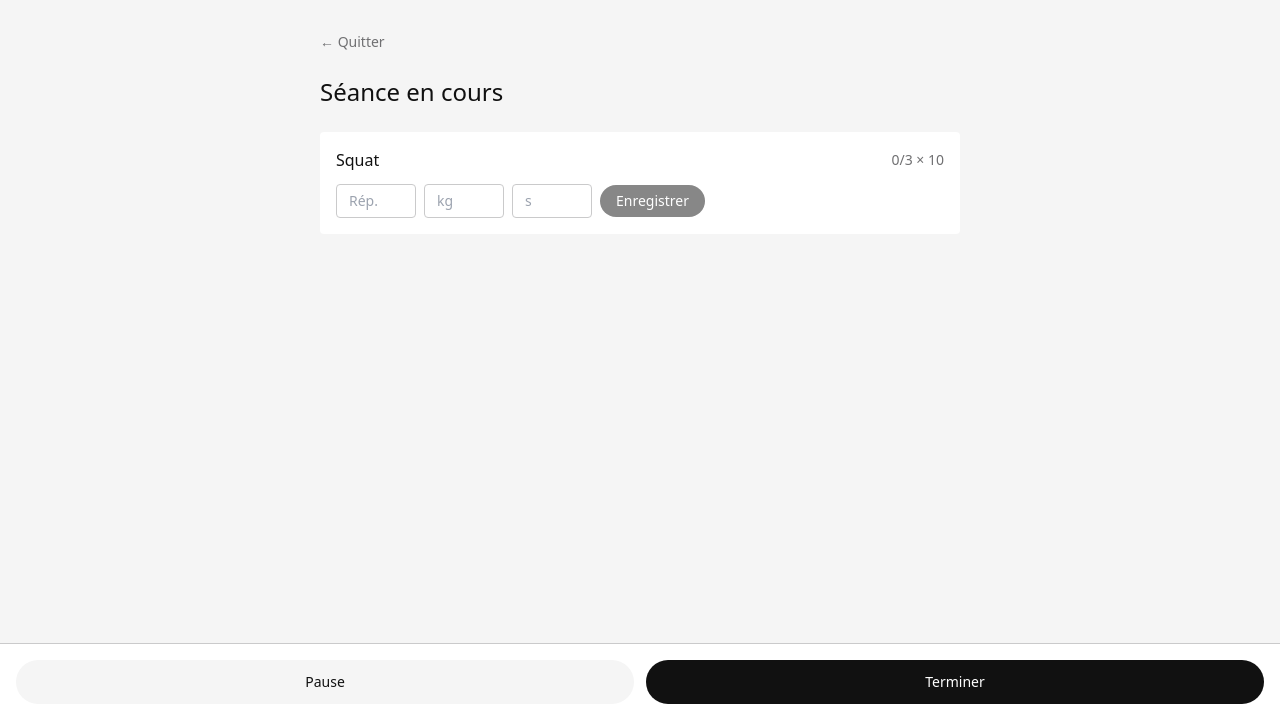
Test: ExecutionPage › RPE modal Annuler closes modal
Expected: the text "Squat" is shown, [336,148,379,172]
Click the button "Terminer" at (955, 682), box [646,660,1264,704]
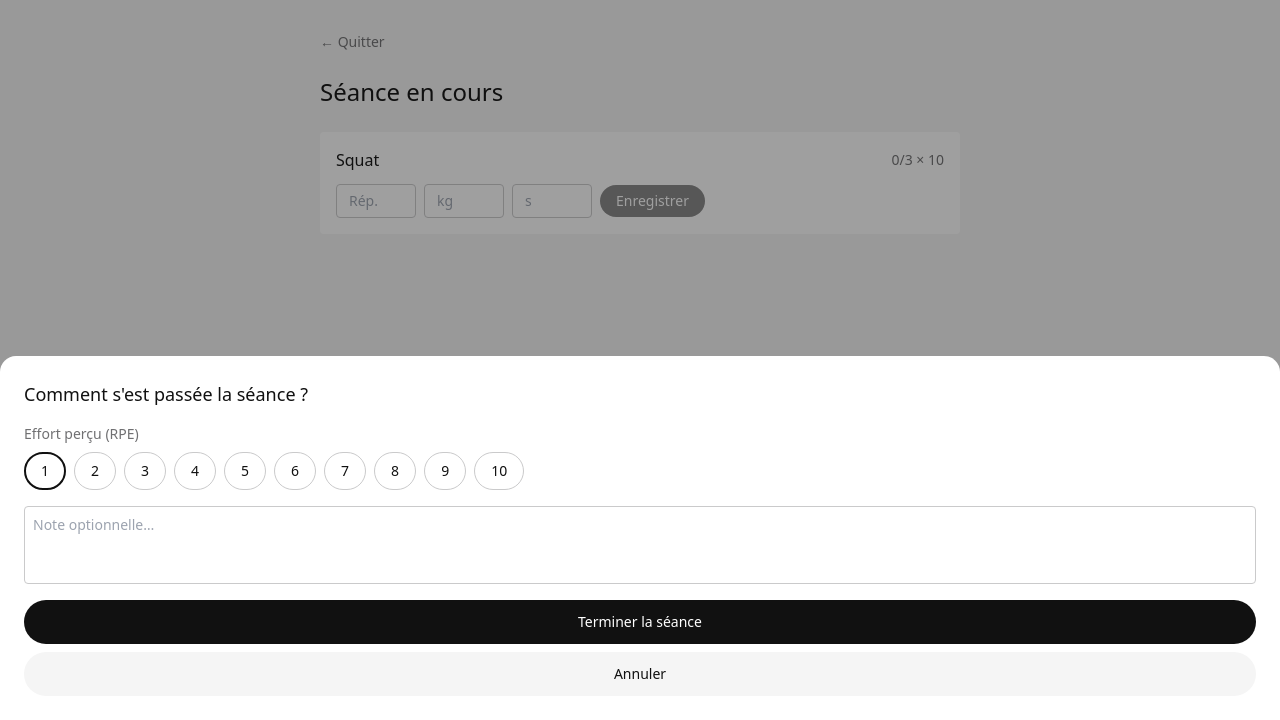
Expected: the button "Terminer la séance" is shown, [24,600,1256,644]
Click the button "Annuler" at (640, 674), box [24,652,1256,696]
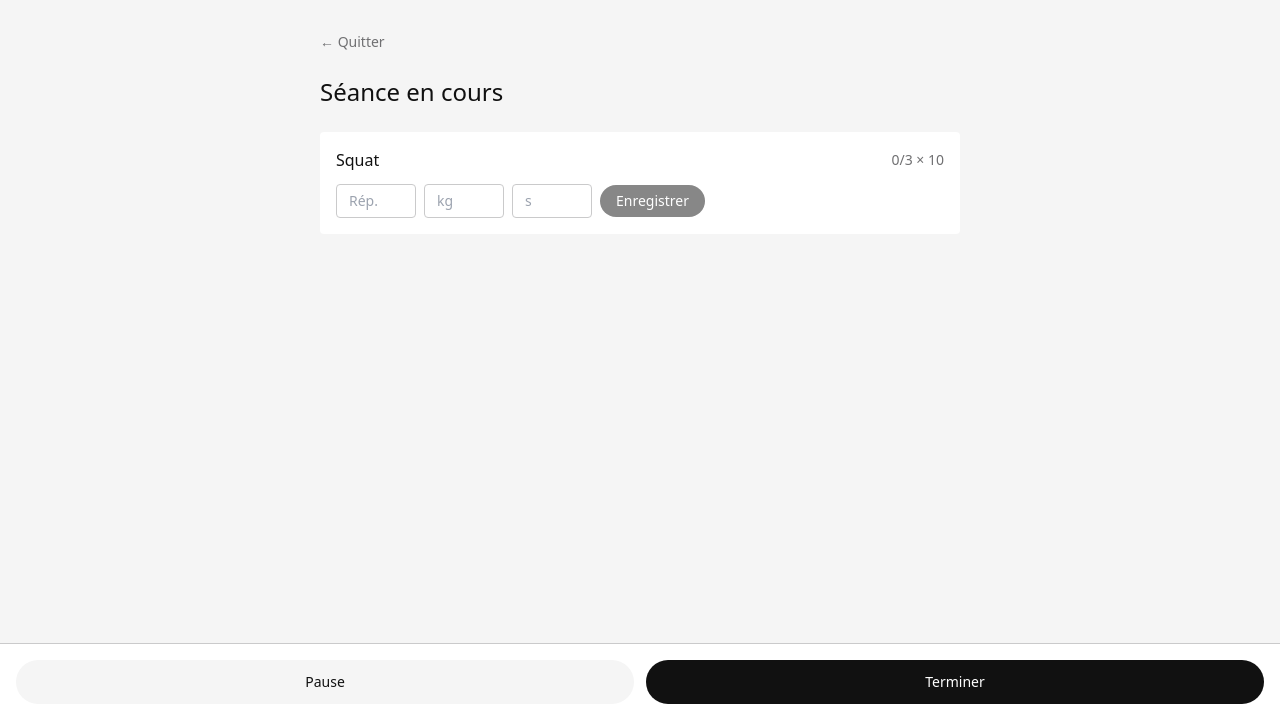
Expected: the button "Terminer la séance" is gone
